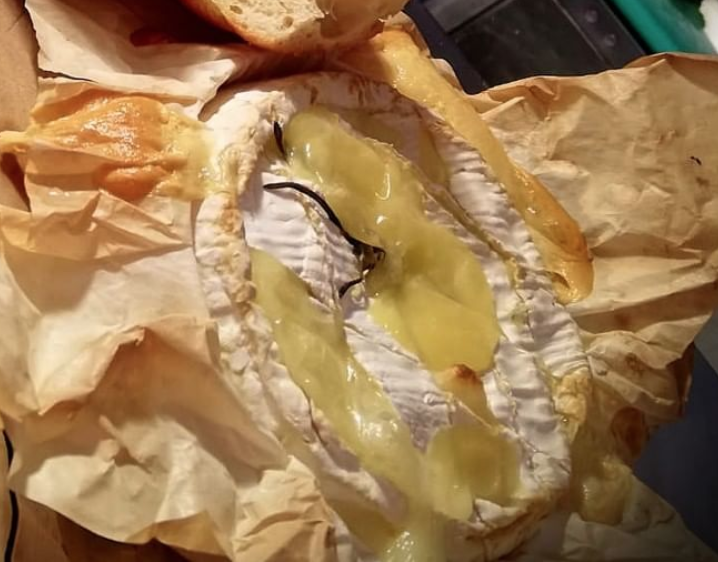camembert: (177, 64, 601, 562)
